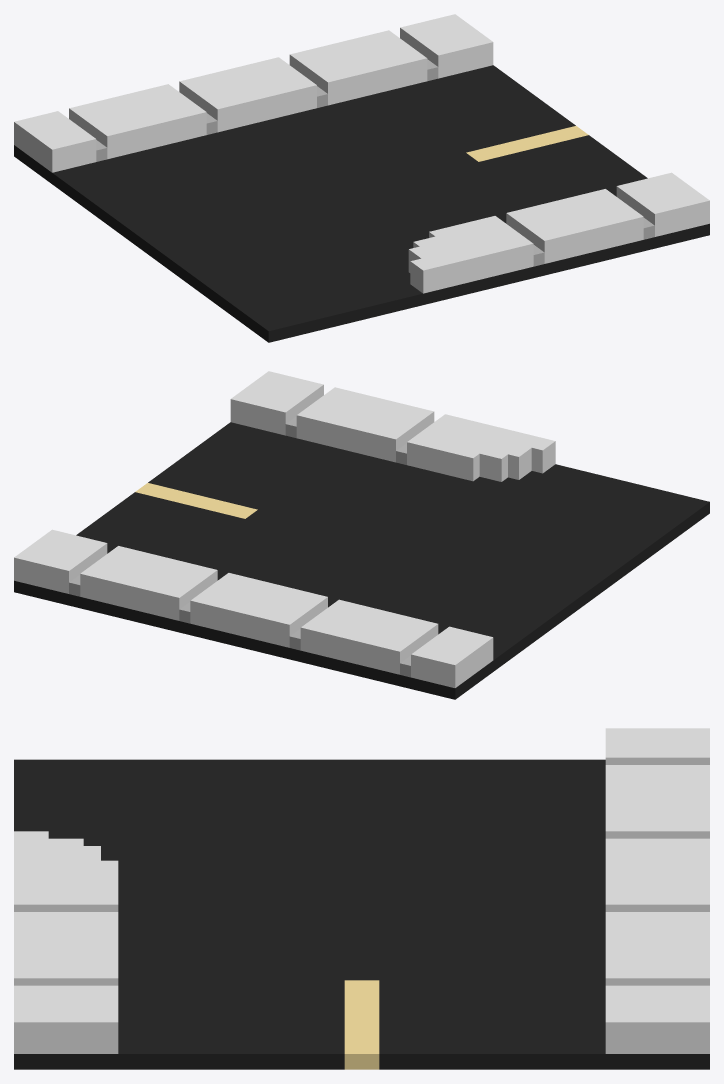
3 views of the same model, one above another, from view 1: azimuth 30°, elevation 25°; view 2: azimuth 150°, elevation 25°; view 3: azimuth 270°, elevation 25° (orthographic). The views are drawn at different scales.
Visible parts, largest first — view 1: Matrix_5; view 2: Matrix_5; view 3: Matrix_5.
Boxes of the visible parts, box(x1,y1,x2,y2) form: Matrix_5: box(14, 14, 709, 342); Matrix_5: box(14, 371, 709, 699); Matrix_5: box(14, 728, 709, 1069).
Size of the model in its own units: 40 by 3 by 40.
1 material, 1 textured.
